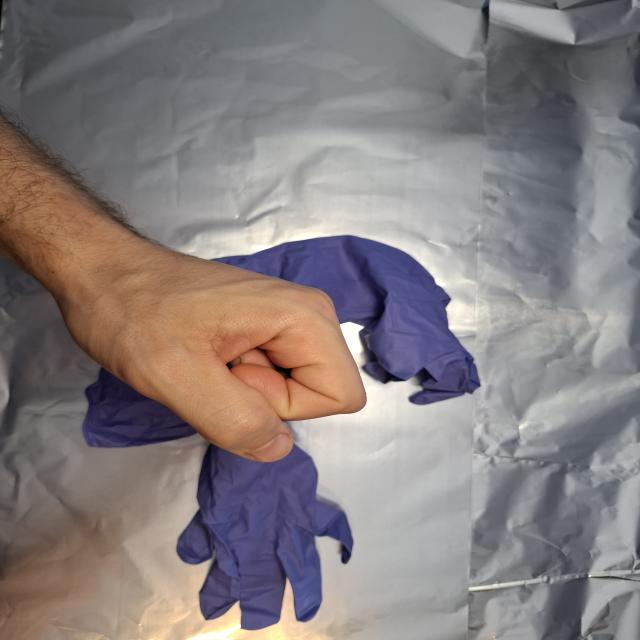glove_off: (50, 228, 369, 464)
